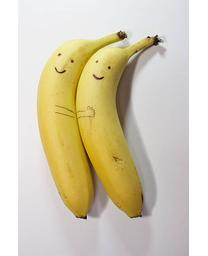banana: (35, 30, 166, 219)
